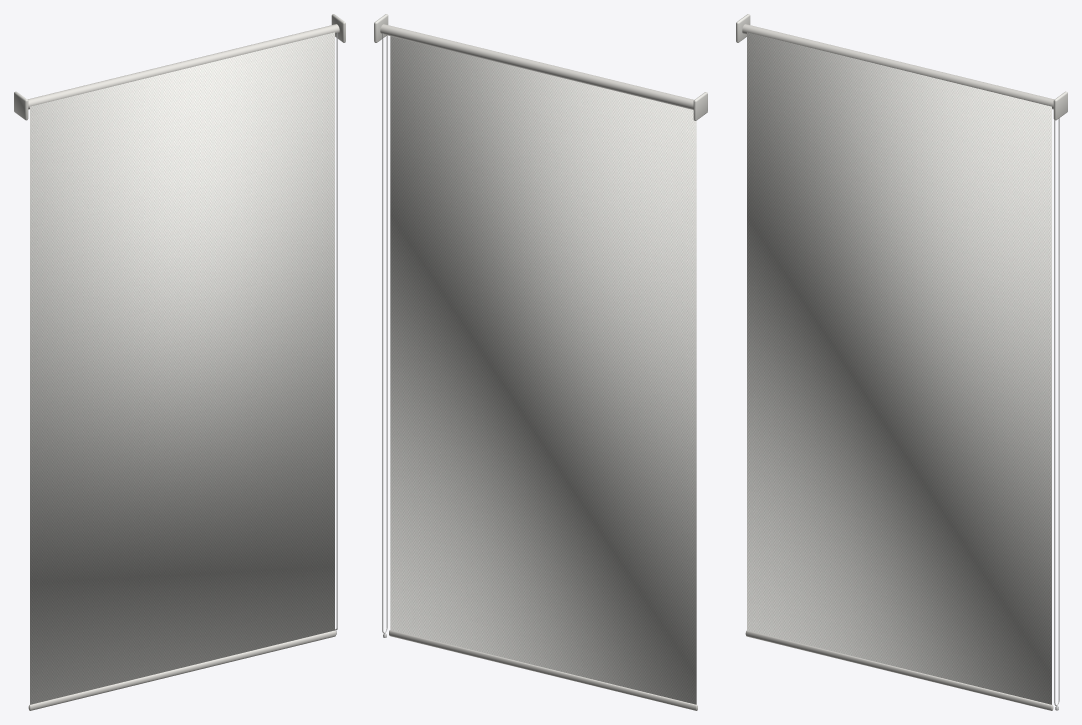
File: estor_enrollable_220_c100.glb
The picture shows the model from 3 angles, left to right: view 1: azimuth 30°, elevation 25°; view 2: azimuth 150°, elevation 25°; view 3: azimuth 330°, elevation 25°; orthographic projection.
Visible parts, largest first — view 1: estor_enrollable_220_c100; view 2: estor_enrollable_220_c100; view 3: estor_enrollable_220_c100.
Boxes of the visible parts, x1,y1,x2,y2 form: estor_enrollable_220_c100: (14, 14, 345, 710); estor_enrollable_220_c100: (374, 14, 707, 710); estor_enrollable_220_c100: (736, 14, 1067, 710).
Size of the model in its own units: 1.2 by 2.2 by 0.08.
Materials: 4 (1 with a texture image).
